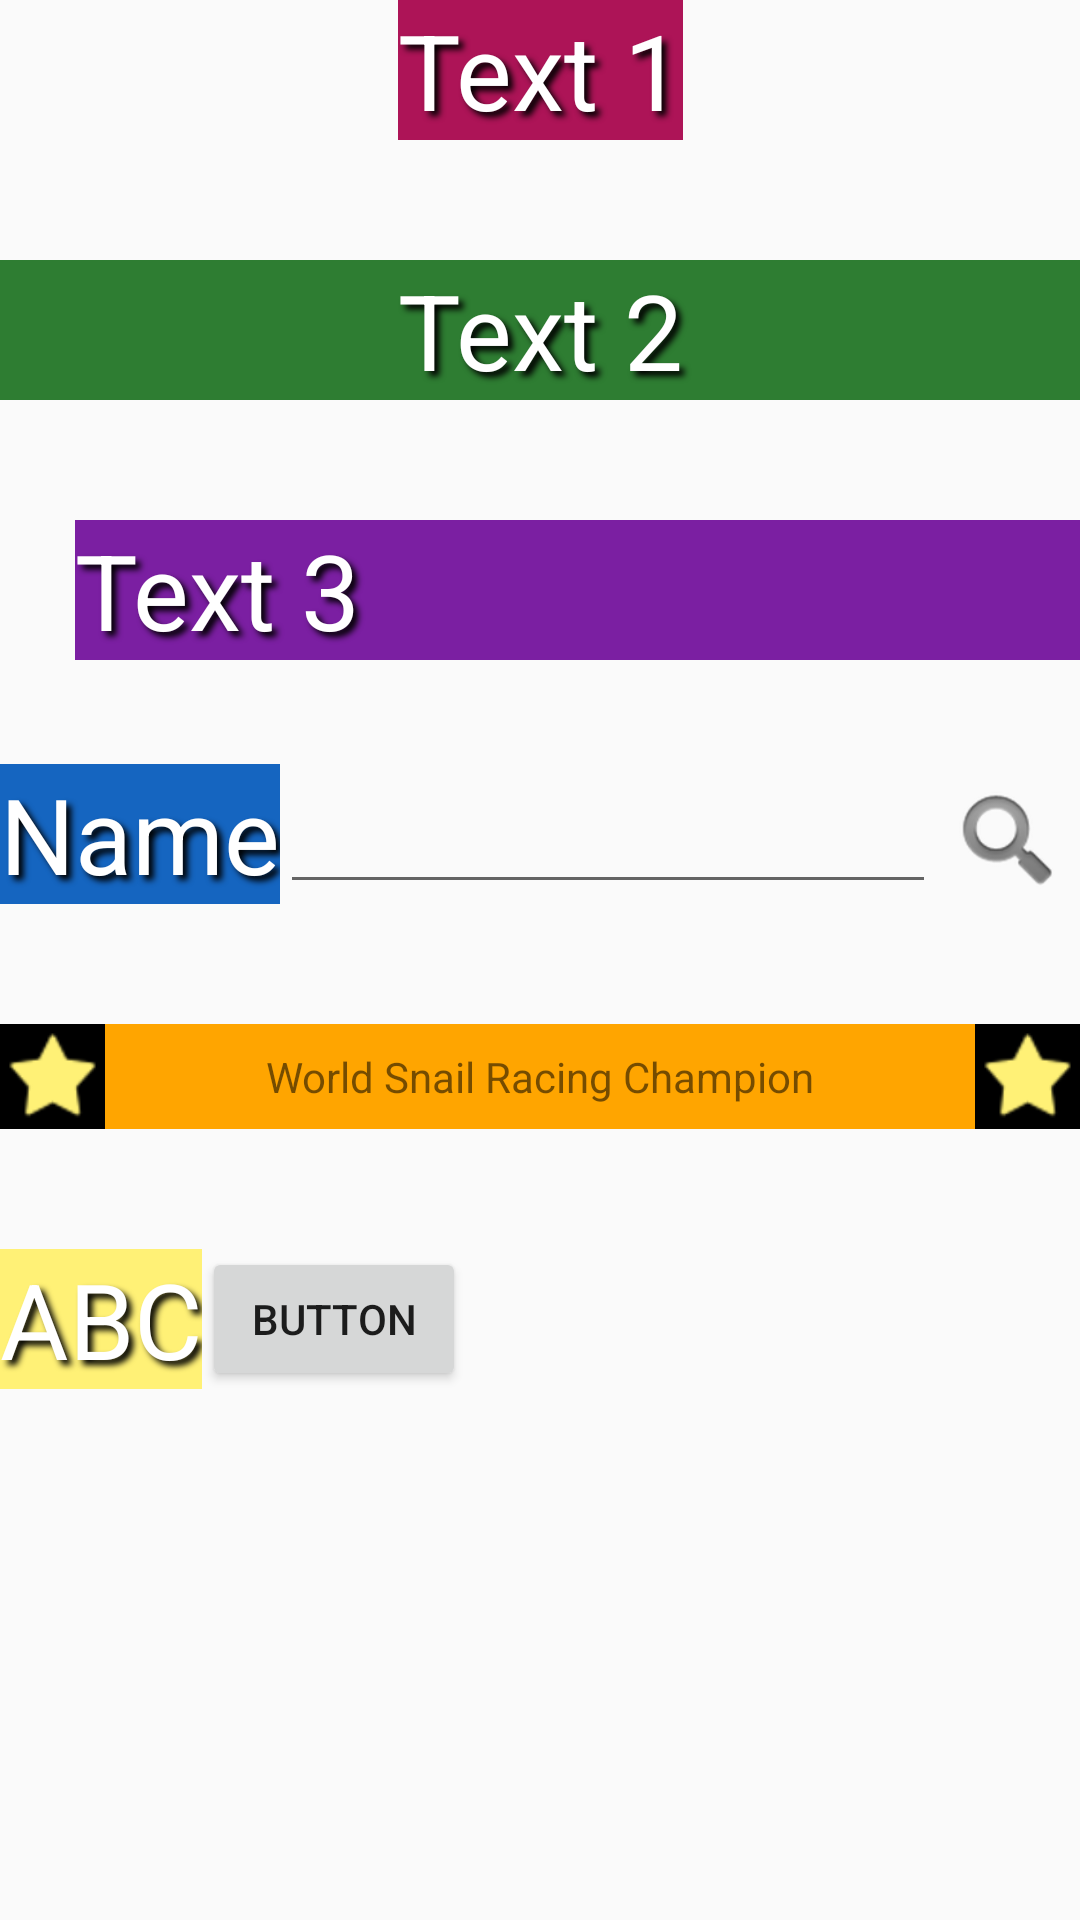

Point at icon controls on the screen. Image size 1080 x 1920, points as [x,y].
search category: [1007,840]
star on: [52,1076], [1027,1076]
